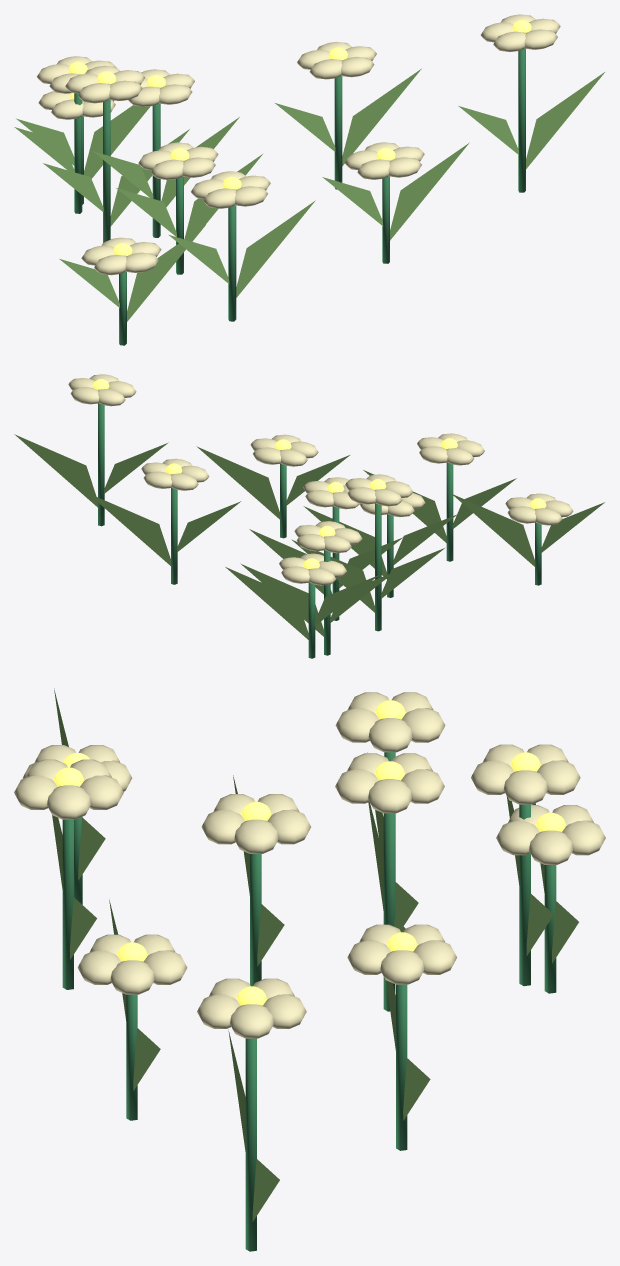
The model's file is garden.glb.
3 views of the same model, one above another, from view 1: azimuth 30°, elevation 25°; view 2: azimuth 150°, elevation 25°; view 3: azimuth 270°, elevation 25° (orthographic). The views are drawn at different scales.
Parts seen in each view (by area): view 1: garden_Sunlit leaves, garden_Wildflower cream, garden_Palm jade, garden_Warm lantern light; view 2: garden_Sunlit leaves, garden_Wildflower cream, garden_Palm jade, garden_Warm lantern light; view 3: garden_Wildflower cream, garden_Palm jade, garden_Sunlit leaves, garden_Warm lantern light.
Boxes of the visible parts, left/top/right/bottom form: garden_Sunlit leaves: left=14, top=68, right=604, bottom=321; garden_Wildflower cream: left=37, top=14, right=560, bottom=275; garden_Palm jade: left=74, top=48, right=525, bottom=345; garden_Warm lantern light: left=68, top=20, right=531, bottom=255; garden_Sunlit leaves: left=14, top=434, right=604, bottom=639; garden_Wildflower cream: left=68, top=374, right=573, bottom=585; garden_Palm jade: left=98, top=403, right=541, bottom=658; garden_Warm lantern light: left=93, top=379, right=546, bottom=569; garden_Wildflower cream: left=14, top=692, right=605, bottom=1038; garden_Palm jade: left=62, top=752, right=556, bottom=1251; garden_Sunlit leaves: left=52, top=688, right=578, bottom=1221; garden_Warm lantern light: left=53, top=700, right=566, bottom=1005.
Bounding box in the file's own units: 4.67 × 1.26 × 2.51.
